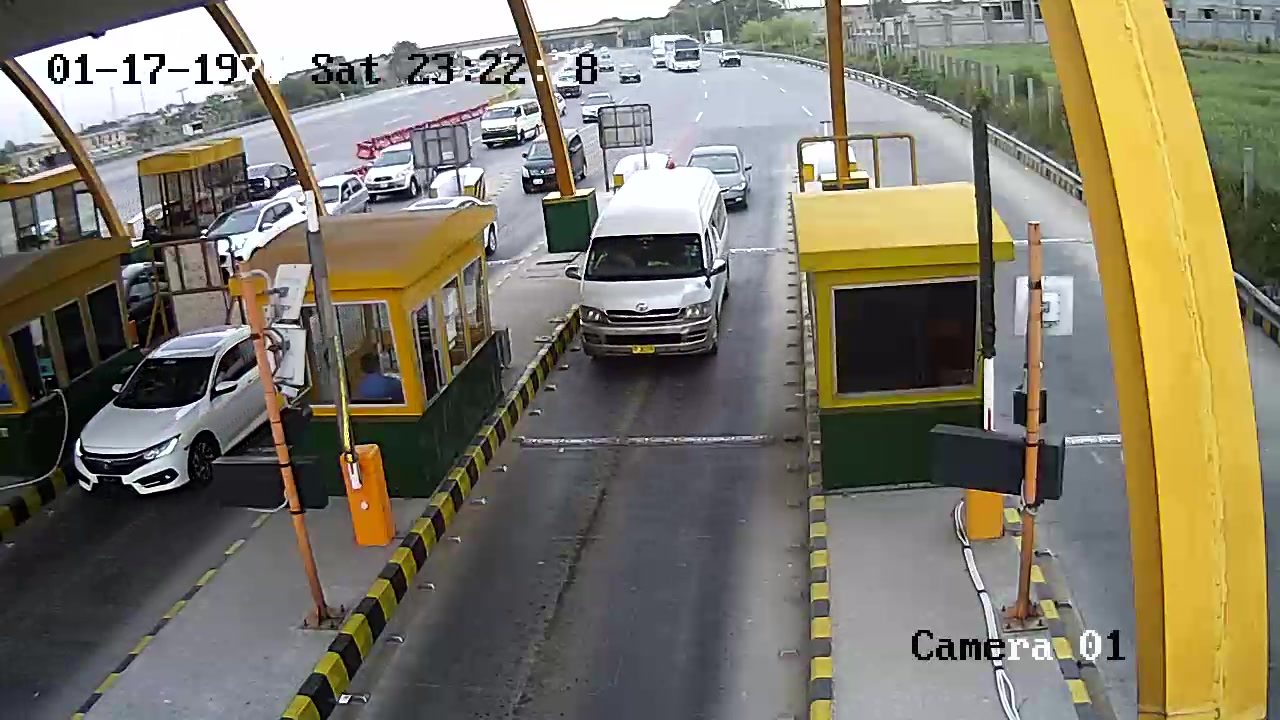F3: (578, 165, 732, 379)
